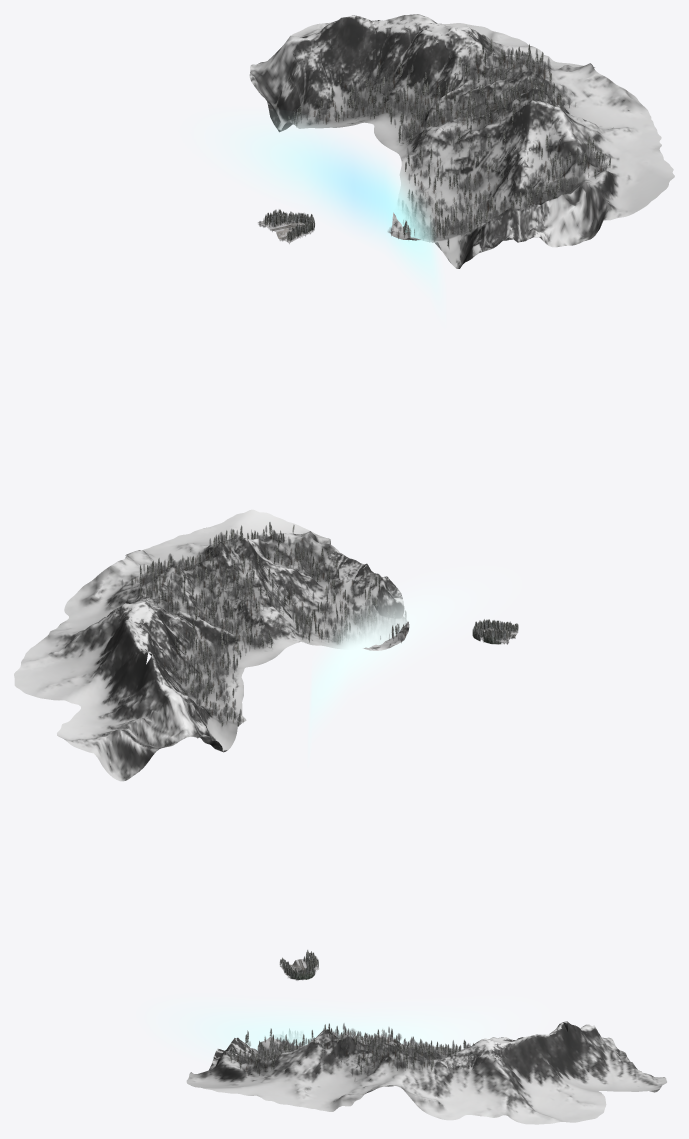
The picture shows the model from 3 angles, top to bottom: view 1: azimuth 30°, elevation 25°; view 2: azimuth 150°, elevation 25°; view 3: azimuth 270°, elevation 25°; orthographic projection. The views are drawn at different scales.
Visible parts, largest first — view 1: MOUNTAIN, BACKGROUND_TREES, MIST, BACKGROUND_TREES.001; view 2: MOUNTAIN, BACKGROUND_TREES, MIST, BACKGROUND_TREES.001; view 3: MOUNTAIN, MIST, BACKGROUND_TREES, BACKGROUND_TREES.001.
Part boxes in pixels (x1,y1,x2,y2): MOUNTAIN: (249, 14, 674, 268); BACKGROUND_TREES: (288, 39, 610, 248); MIST: (229, 125, 441, 301); BACKGROUND_TREES.001: (258, 209, 314, 243); MOUNTAIN: (14, 509, 409, 781); BACKGROUND_TREES: (121, 522, 406, 737); MIST: (309, 579, 490, 747); BACKGROUND_TREES.001: (472, 619, 518, 644); MOUNTAIN: (186, 1021, 666, 1124); MIST: (179, 1006, 519, 1053); BACKGROUND_TREES: (230, 1023, 473, 1076); BACKGROUND_TREES.001: (279, 950, 318, 980).
Size of the model in its own units: 822 by 297 by 1312.
12 materials, 12 textured.
